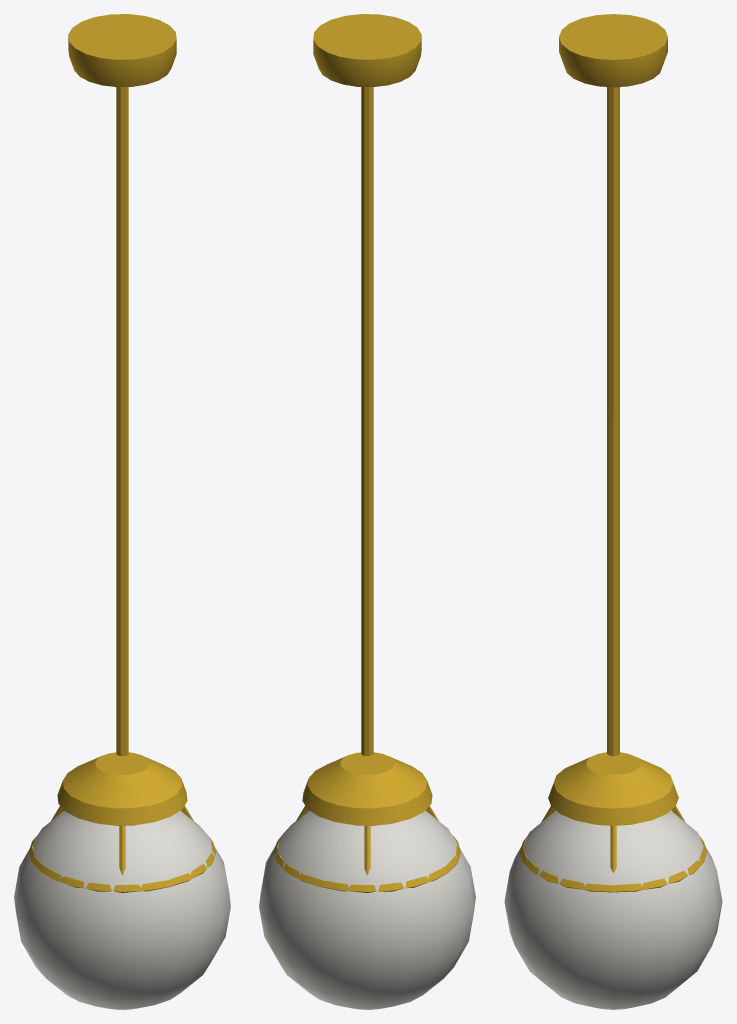
Rendered from prop_pendant_brass_off.glb.
The picture shows the model from 3 angles, left to right: view 1: azimuth 30°, elevation 25°; view 2: azimuth 150°, elevation 25°; view 3: azimuth 270°, elevation 25°; orthographic projection.
Parts seen in each view (by area): view 1: Pendant; view 2: Pendant; view 3: Pendant.
Part boxes in pixels (bbox=[...]): Pendant: bbox=[14, 14, 230, 1009]; Pendant: bbox=[259, 14, 475, 1009]; Pendant: bbox=[504, 14, 722, 1009].
Size of the model in its own units: 0.4 by 1.95 by 0.4.
